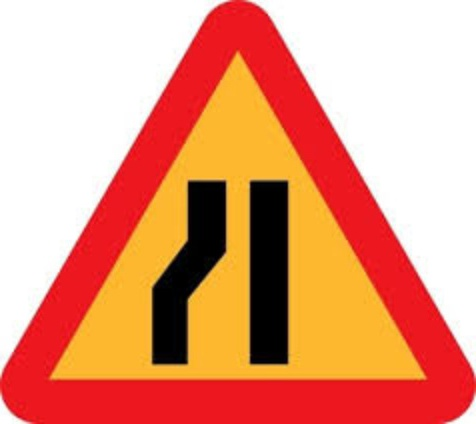Narrow_road: (10, 1, 467, 424)
